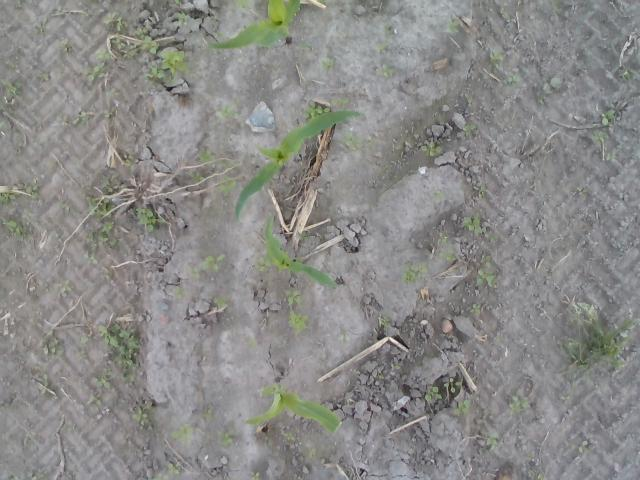Maize: (234, 109, 361, 223), (264, 212, 339, 290), (241, 382, 342, 436), (206, 0, 302, 51)
Weeds: (98, 322, 142, 370), (144, 50, 192, 84), (0, 210, 32, 241), (86, 48, 112, 80), (494, 72, 528, 96), (86, 192, 115, 220), (398, 262, 426, 288), (133, 27, 159, 55), (474, 255, 496, 288), (110, 35, 138, 59), (135, 206, 159, 234), (536, 78, 560, 104), (216, 96, 242, 120), (435, 236, 456, 264), (98, 222, 120, 248), (288, 309, 309, 335), (303, 100, 330, 120), (216, 176, 240, 198), (148, 463, 179, 480), (172, 422, 192, 446), (104, 12, 128, 32), (462, 214, 483, 236), (342, 130, 362, 152), (0, 78, 24, 96), (201, 254, 225, 272), (95, 368, 114, 390), (84, 232, 97, 264), (511, 389, 529, 412), (48, 279, 72, 296), (489, 48, 506, 72), (284, 286, 304, 305), (590, 123, 608, 144), (99, 174, 118, 193), (132, 406, 150, 426), (64, 112, 86, 128), (40, 336, 59, 354), (450, 399, 470, 416), (420, 142, 442, 156), (216, 431, 234, 448), (425, 383, 442, 401), (375, 63, 395, 78), (444, 377, 462, 393), (320, 56, 338, 72), (0, 190, 17, 206), (330, 97, 352, 109), (600, 110, 616, 126), (485, 432, 499, 450), (463, 302, 481, 316), (462, 123, 480, 137), (230, 0, 257, 9), (254, 258, 270, 273), (26, 184, 40, 200), (577, 440, 593, 454), (565, 336, 577, 354), (190, 170, 205, 184), (223, 160, 240, 172), (80, 335, 88, 360), (528, 469, 546, 480), (174, 12, 188, 26), (447, 19, 461, 33), (199, 149, 215, 161), (432, 190, 449, 201), (175, 287, 188, 301), (90, 393, 102, 408), (551, 0, 562, 16), (338, 333, 350, 347), (214, 294, 226, 308), (280, 431, 295, 442), (202, 409, 214, 422), (31, 471, 47, 480), (104, 88, 120, 97), (38, 374, 49, 387), (100, 108, 112, 119), (378, 316, 389, 328), (622, 69, 634, 80), (190, 267, 200, 280), (298, 41, 314, 49), (584, 302, 594, 314), (374, 42, 386, 52), (121, 370, 130, 382), (558, 392, 570, 401), (248, 338, 258, 348), (384, 23, 394, 33), (250, 471, 261, 480), (0, 96, 6, 112), (478, 186, 486, 198), (606, 152, 616, 161), (37, 73, 48, 81), (256, 387, 264, 397), (391, 362, 401, 370), (125, 158, 133, 167), (15, 0, 21, 8), (174, 0, 181, 4)
